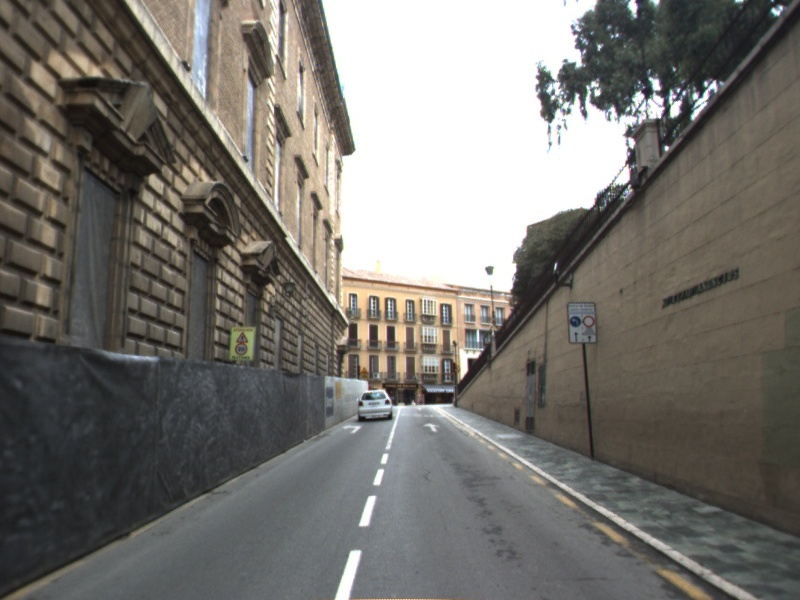LEFT: (341, 423, 364, 435)
STRAIGHT: (421, 420, 442, 434)
